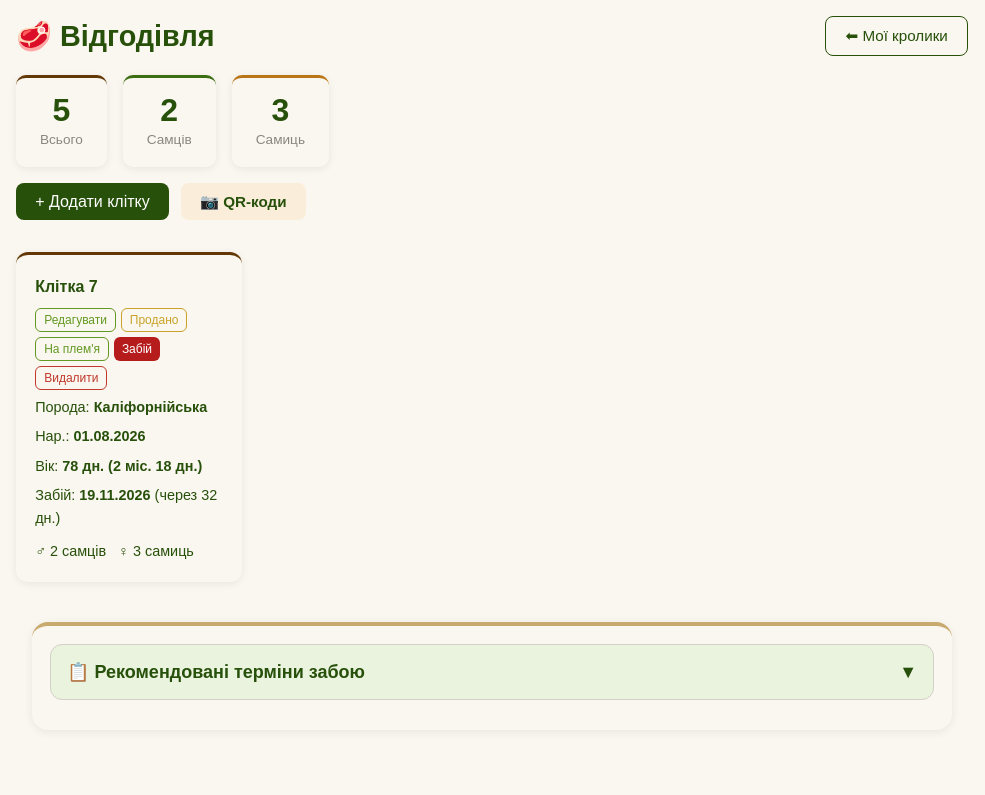
Scenario: Fattening: помилки Supabase › помилка оновлення списку не очищує наявні клітки
The image size is (985, 795).
Click the button "Видалити". click: (71, 378)
box: [35,366,108,390]
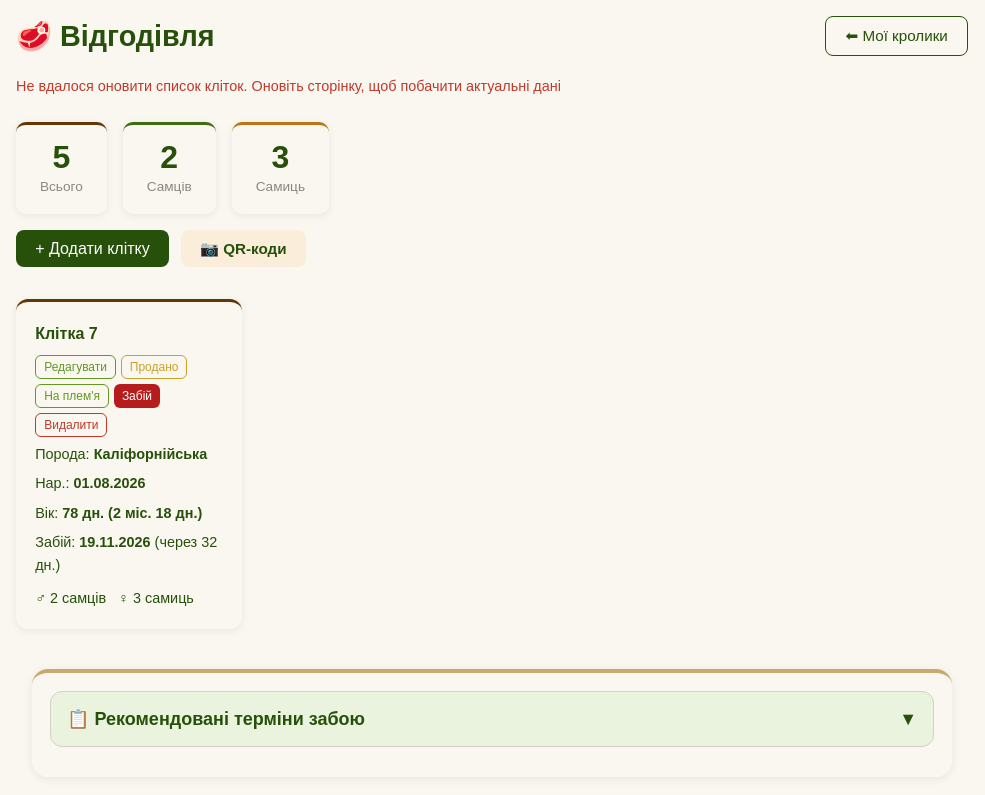
Expected: the text "Клітка 7" is shown, [35,321,98,347]
Now the text "Не вдалося оновити список кліток" is shown, box [16,78,561,94]
